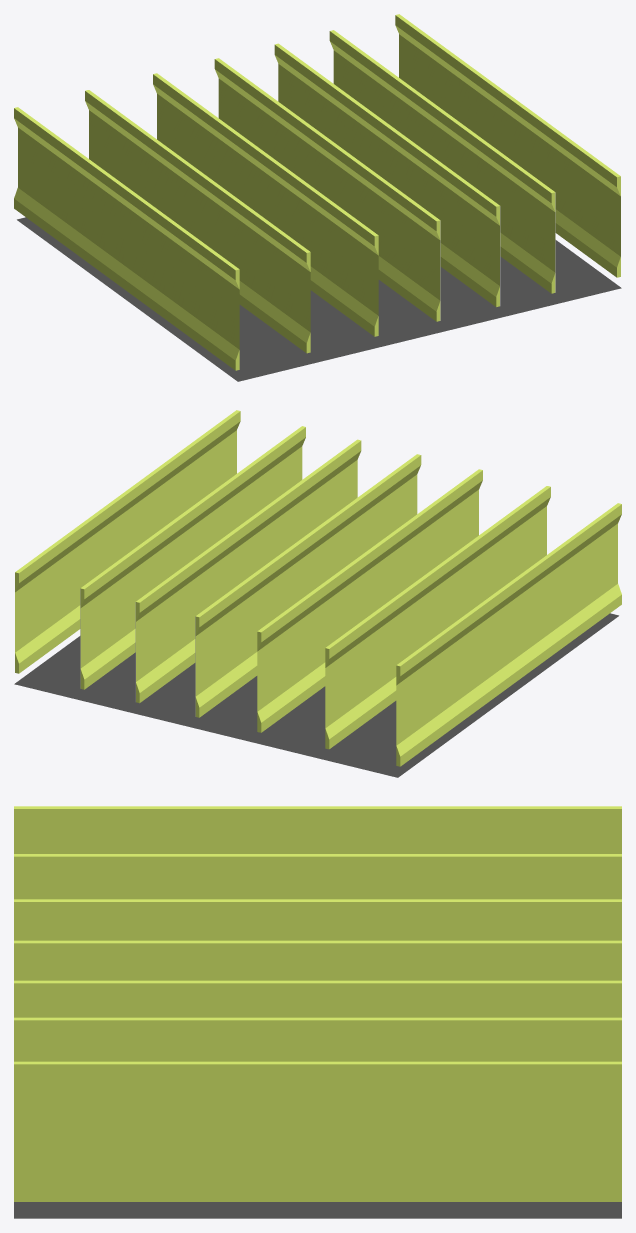
The model's file is Fall.dae.
3 renders of one model, top to bottom at view 1: azimuth 30°, elevation 25°; view 2: azimuth 150°, elevation 25°; view 3: azimuth 270°, elevation 25°, orthographic. The views are drawn at different scales.
Parts seen in each view (by area): view 1: node_b47fcad8_4007_4a56_8be7_626bf26da8c4_mesh2, node_b47fcad8_4007_4a56_8be7_626bf26da8c4_mesh7, node_b47fcad8_4007_4a56_8be7_626bf26da8c4_mesh5, node_b47fcad8_4007_4a56_8be7_626bf26da8c4_mesh1, node_b47fcad8_4007_4a56_8be7_626bf26da8c4_mesh6, node_b47fcad8_4007_4a56_8be7_626bf26da8c4_mesh3, node_b47fcad8_4007_4a56_8be7_626bf26da8c4_mesh0, node_b47fcad8_4007_4a56_8be7_626bf26da8c4_mesh4; view 2: node_b47fcad8_4007_4a56_8be7_626bf26da8c4_mesh2, node_b47fcad8_4007_4a56_8be7_626bf26da8c4_mesh7, node_b47fcad8_4007_4a56_8be7_626bf26da8c4_mesh5, node_b47fcad8_4007_4a56_8be7_626bf26da8c4_mesh1, node_b47fcad8_4007_4a56_8be7_626bf26da8c4_mesh6, node_b47fcad8_4007_4a56_8be7_626bf26da8c4_mesh3, node_b47fcad8_4007_4a56_8be7_626bf26da8c4_mesh0, node_b47fcad8_4007_4a56_8be7_626bf26da8c4_mesh4; view 3: node_b47fcad8_4007_4a56_8be7_626bf26da8c4_mesh6, node_b47fcad8_4007_4a56_8be7_626bf26da8c4_mesh2, node_b47fcad8_4007_4a56_8be7_626bf26da8c4_mesh7, node_b47fcad8_4007_4a56_8be7_626bf26da8c4_mesh4, node_b47fcad8_4007_4a56_8be7_626bf26da8c4_mesh5, node_b47fcad8_4007_4a56_8be7_626bf26da8c4_mesh3, node_b47fcad8_4007_4a56_8be7_626bf26da8c4_mesh0, node_b47fcad8_4007_4a56_8be7_626bf26da8c4_mesh1.
Boxes of the visible parts, left/top/right/bottom form: node_b47fcad8_4007_4a56_8be7_626bf26da8c4_mesh2: left=14, top=107, right=239, bottom=370; node_b47fcad8_4007_4a56_8be7_626bf26da8c4_mesh7: left=85, top=90, right=310, bottom=353; node_b47fcad8_4007_4a56_8be7_626bf26da8c4_mesh5: left=153, top=73, right=378, bottom=336; node_b47fcad8_4007_4a56_8be7_626bf26da8c4_mesh1: left=17, top=217, right=621, bottom=381; node_b47fcad8_4007_4a56_8be7_626bf26da8c4_mesh6: left=395, top=14, right=620, bottom=277; node_b47fcad8_4007_4a56_8be7_626bf26da8c4_mesh3: left=214, top=58, right=440, bottom=321; node_b47fcad8_4007_4a56_8be7_626bf26da8c4_mesh0: left=274, top=43, right=500, bottom=307; node_b47fcad8_4007_4a56_8be7_626bf26da8c4_mesh4: left=329, top=30, right=555, bottom=293; node_b47fcad8_4007_4a56_8be7_626bf26da8c4_mesh2: left=396, top=503, right=621, bottom=766; node_b47fcad8_4007_4a56_8be7_626bf26da8c4_mesh7: left=325, top=486, right=550, bottom=749; node_b47fcad8_4007_4a56_8be7_626bf26da8c4_mesh5: left=257, top=469, right=482, bottom=732; node_b47fcad8_4007_4a56_8be7_626bf26da8c4_mesh1: left=14, top=613, right=618, bottom=777; node_b47fcad8_4007_4a56_8be7_626bf26da8c4_mesh6: left=15, top=410, right=240, bottom=673; node_b47fcad8_4007_4a56_8be7_626bf26da8c4_mesh3: left=195, top=454, right=421, bottom=717; node_b47fcad8_4007_4a56_8be7_626bf26da8c4_mesh0: left=135, top=439, right=361, bottom=703; node_b47fcad8_4007_4a56_8be7_626bf26da8c4_mesh4: left=80, top=426, right=305, bottom=689; node_b47fcad8_4007_4a56_8be7_626bf26da8c4_mesh6: left=14, top=1061, right=621, bottom=1201; node_b47fcad8_4007_4a56_8be7_626bf26da8c4_mesh2: left=14, top=806, right=621, bottom=853; node_b47fcad8_4007_4a56_8be7_626bf26da8c4_mesh7: left=14, top=854, right=621, bottom=899; node_b47fcad8_4007_4a56_8be7_626bf26da8c4_mesh4: left=14, top=1017, right=621, bottom=1061; node_b47fcad8_4007_4a56_8be7_626bf26da8c4_mesh5: left=14, top=899, right=621, bottom=940; node_b47fcad8_4007_4a56_8be7_626bf26da8c4_mesh3: left=14, top=940, right=621, bottom=980; node_b47fcad8_4007_4a56_8be7_626bf26da8c4_mesh0: left=14, top=980, right=621, bottom=1017; node_b47fcad8_4007_4a56_8be7_626bf26da8c4_mesh1: left=14, top=1202, right=621, bottom=1218.
Size of the model in its own units: 5030 by 1395 by 5000.
